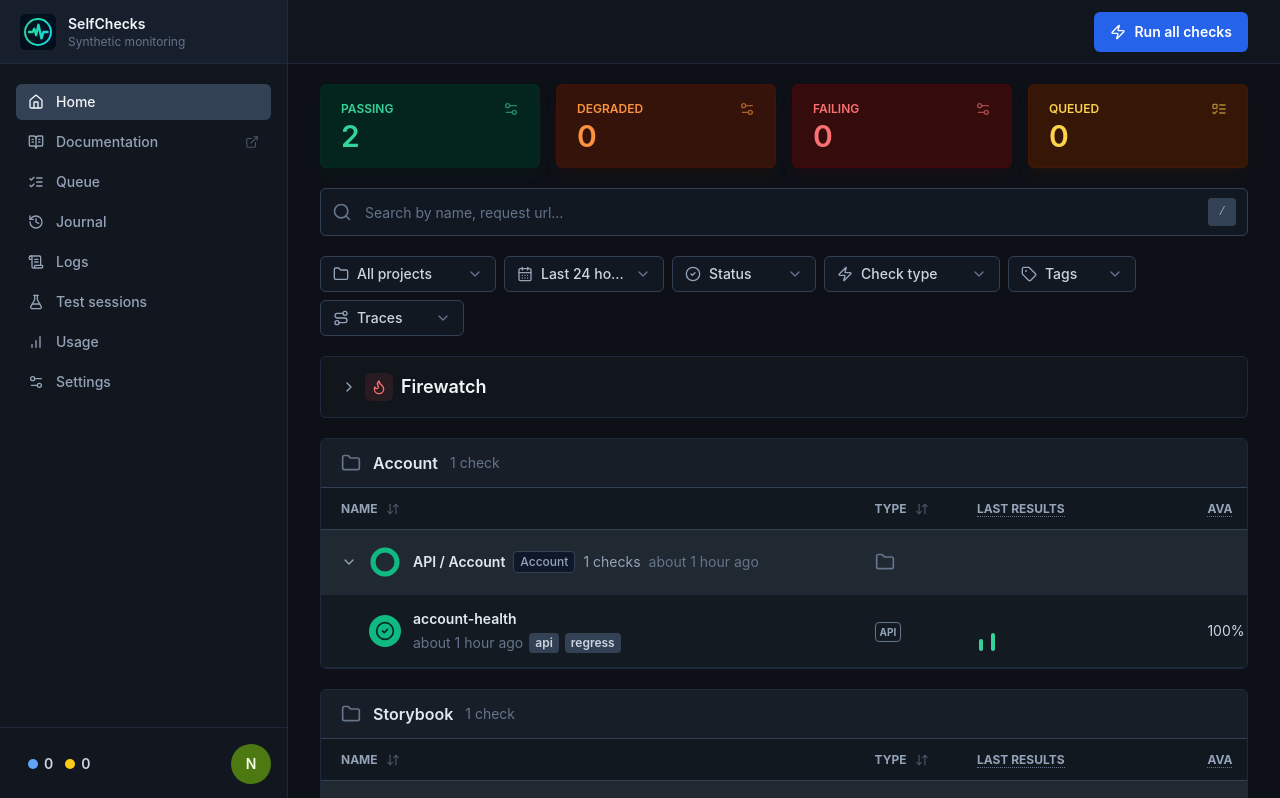
Test case: DashboardPage › renders a separate project table and hides empty tables after filtering
This screenshot has width=1280, height=798.
Check: the element named "Project Account" is shown, box [320,438,1248,669]
In the search field named "Search checks": coordinates (784, 212) [320,188,1248,236], type "storybook-navigation"
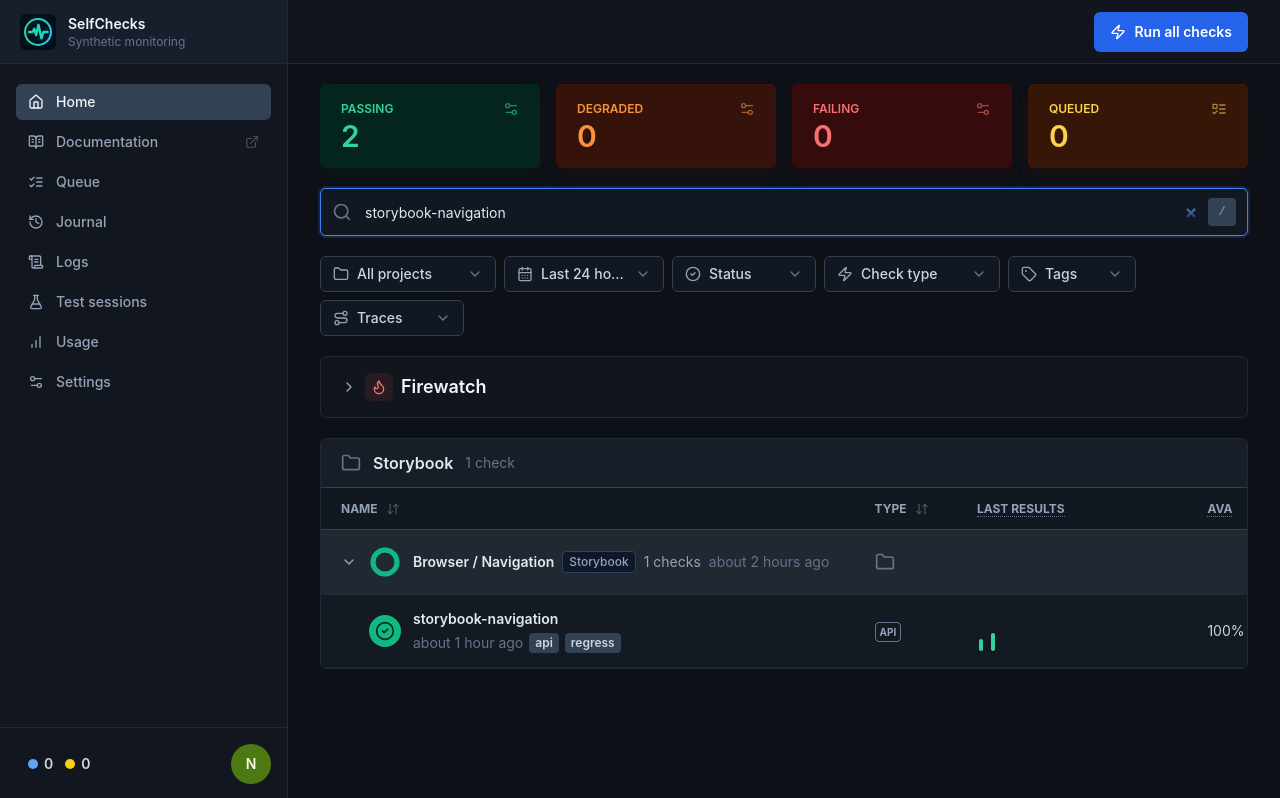
Check: the element named "Project Storybook" is shown, box [320,438,1248,669]
Replace the text in the search field named "Search checks" with "missing-check": coordinates (784, 212) [320,188,1248,236]
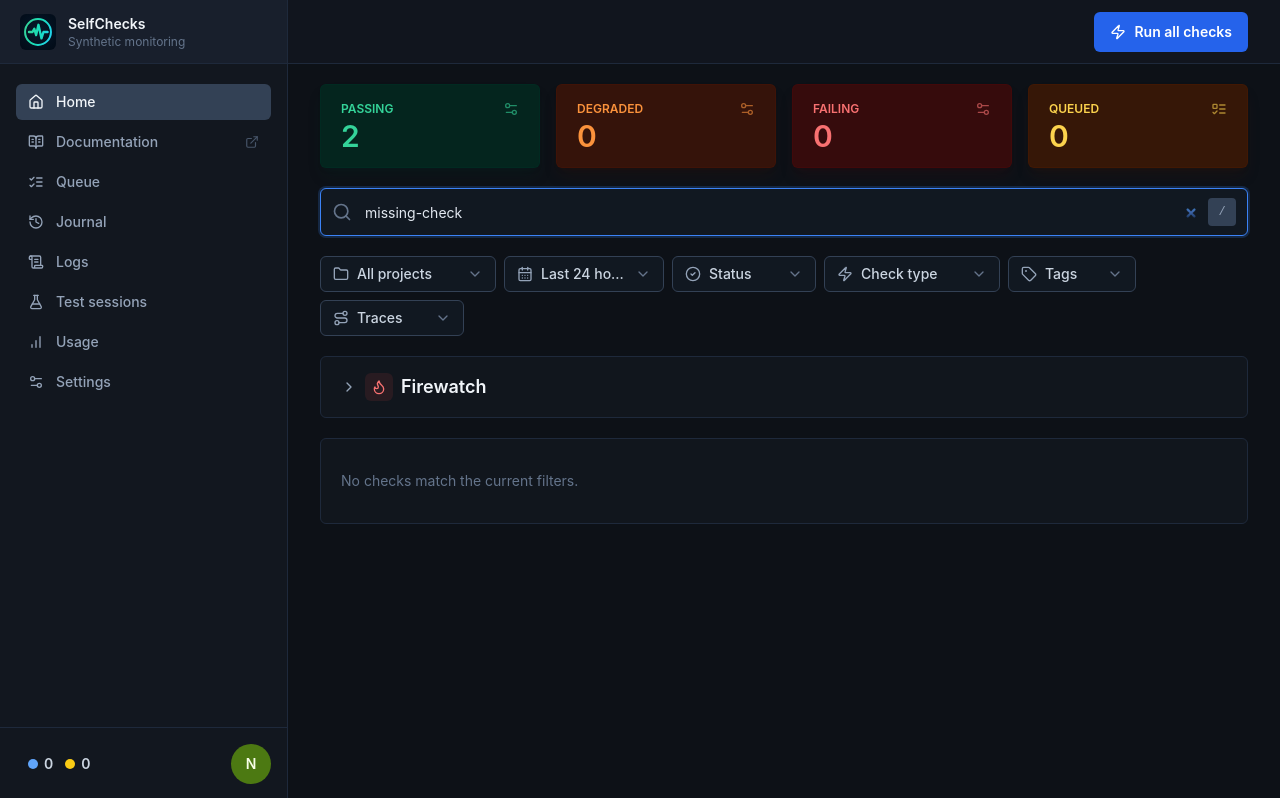
Check: the text "No checks match the current filters." is shown, box [320,438,1248,524]
